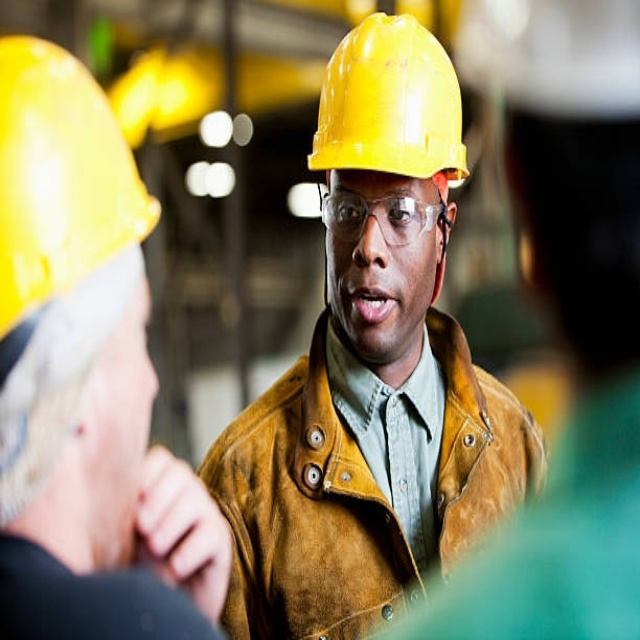Gafas: (319, 180, 444, 245)
Sin_guantes: (131, 442, 235, 628)
Sin_mascara: (342, 279, 398, 345)
